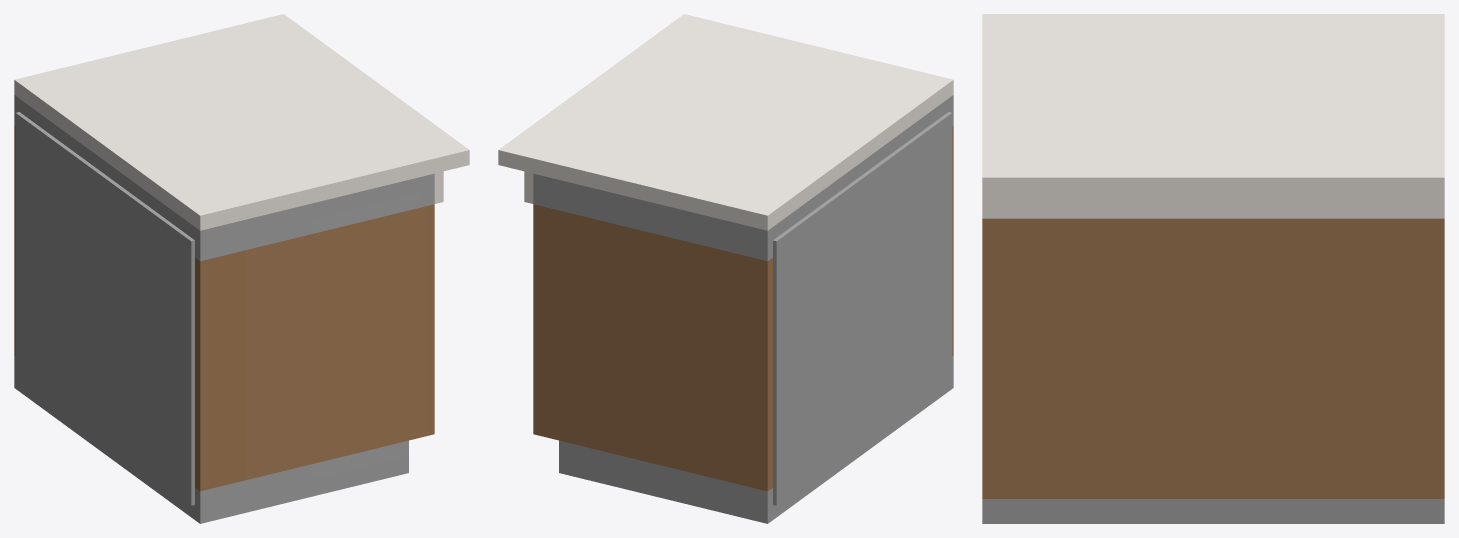
Rendered from SM_donutsCounter_01.glb.
3 renders of one model, left to right at view 1: azimuth 30°, elevation 25°; view 2: azimuth 150°, elevation 25°; view 3: azimuth 270°, elevation 25°, orthographic. The views are drawn at different scales.
Parts seen in each view (by area): view 1: SM_donutsCounter_01; view 2: SM_donutsCounter_01; view 3: SM_donutsCounter_01.
Boxes of the visible parts, x1,y1,x2,y2 form: SM_donutsCounter_01: [14, 14, 469, 523]; SM_donutsCounter_01: [498, 14, 953, 523]; SM_donutsCounter_01: [982, 14, 1444, 523].
Bounding box in the file's own units: 0.8491 × 0.9151 × 1.
Materials: 1 (1 with a texture image).
